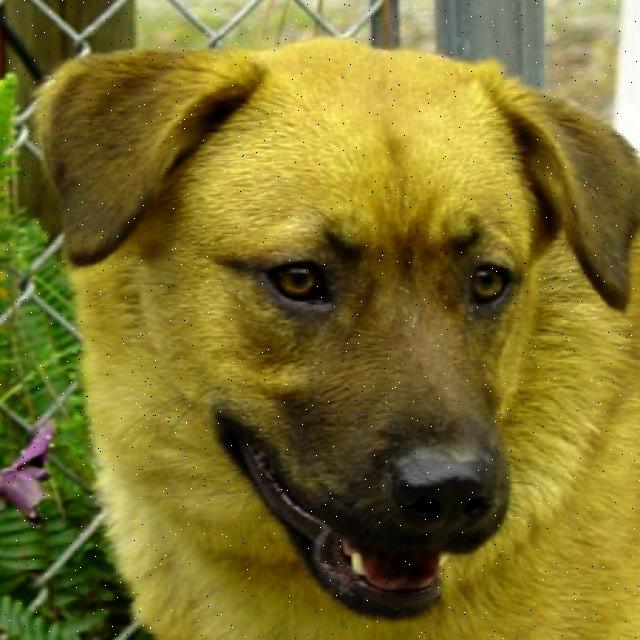Dog: (9, 22, 640, 624)
